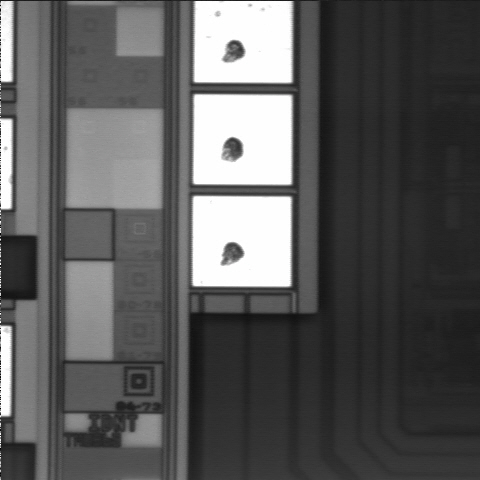pad: (193, 196, 291, 287), (193, 95, 292, 185)
